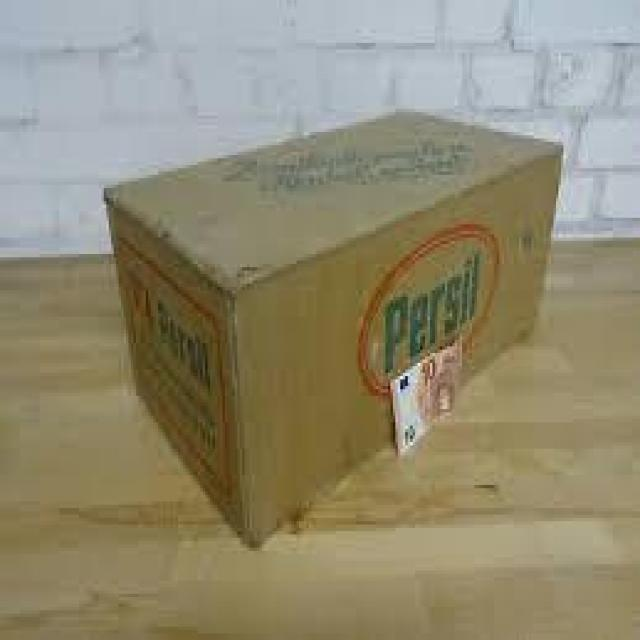box: (104, 105, 563, 551)
